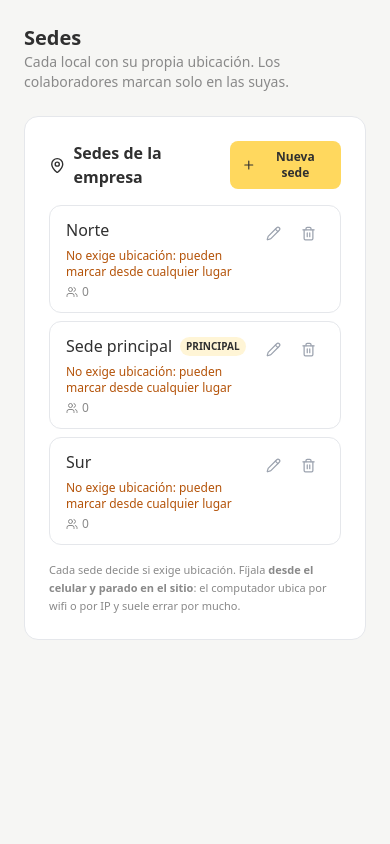
Test: TabSedes y la Sede principal › al eliminar la principal, el aviso nombra la sede que quedará como principal y dice que ahí pasan a contarse las marcaciones sin ubicación
Click the button named "Eliminar Sede principal".
click(308, 350)  # box [293,334,324,365]
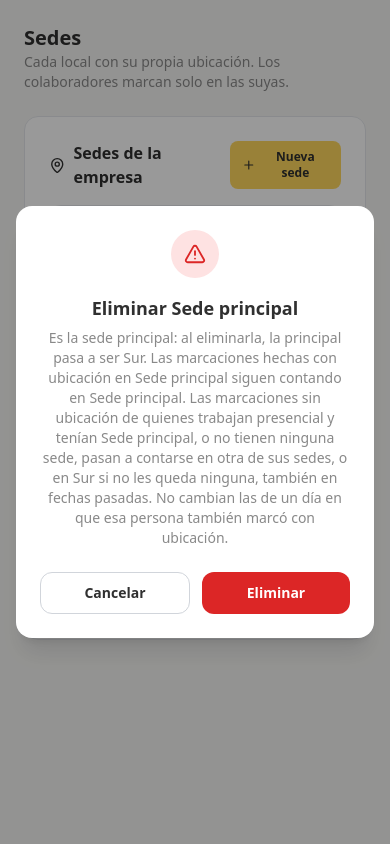
Now the text "o en Sur si no les queda ninguna, también en fechas pasadas" is shown, box [43,328,347,547]
